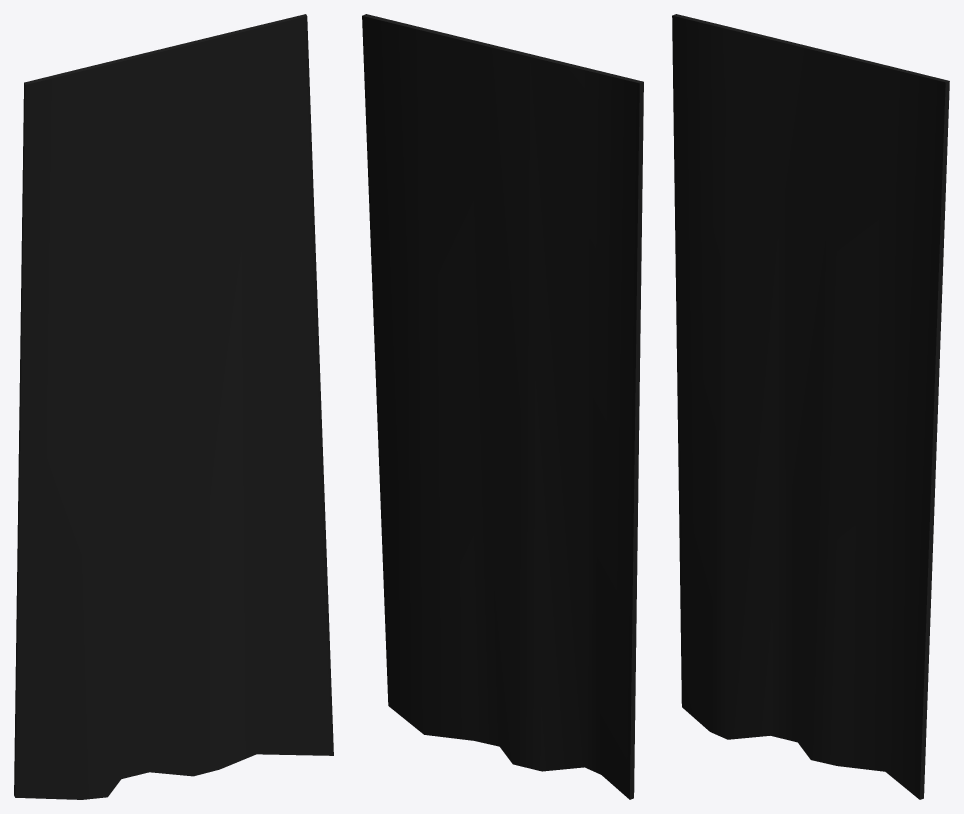
File: Curtains_005.glb
3 views of the same model, side by side, from view 1: azimuth 30°, elevation 25°; view 2: azimuth 150°, elevation 25°; view 3: azimuth 330°, elevation 25° (orthographic). The views are drawn at different scales.
Parts seen in each view (by area): view 1: Curtains_005; view 2: Curtains_005; view 3: Curtains_005.
Boxes of the visible parts, x1,y1,x2,y2 form: Curtains_005: (14, 14, 333, 799); Curtains_005: (362, 14, 643, 799); Curtains_005: (672, 14, 949, 799).
Size of the model in its own units: 1.11 by 2.7 by 0.2683.
Materials: 1 (1 with a texture image).
